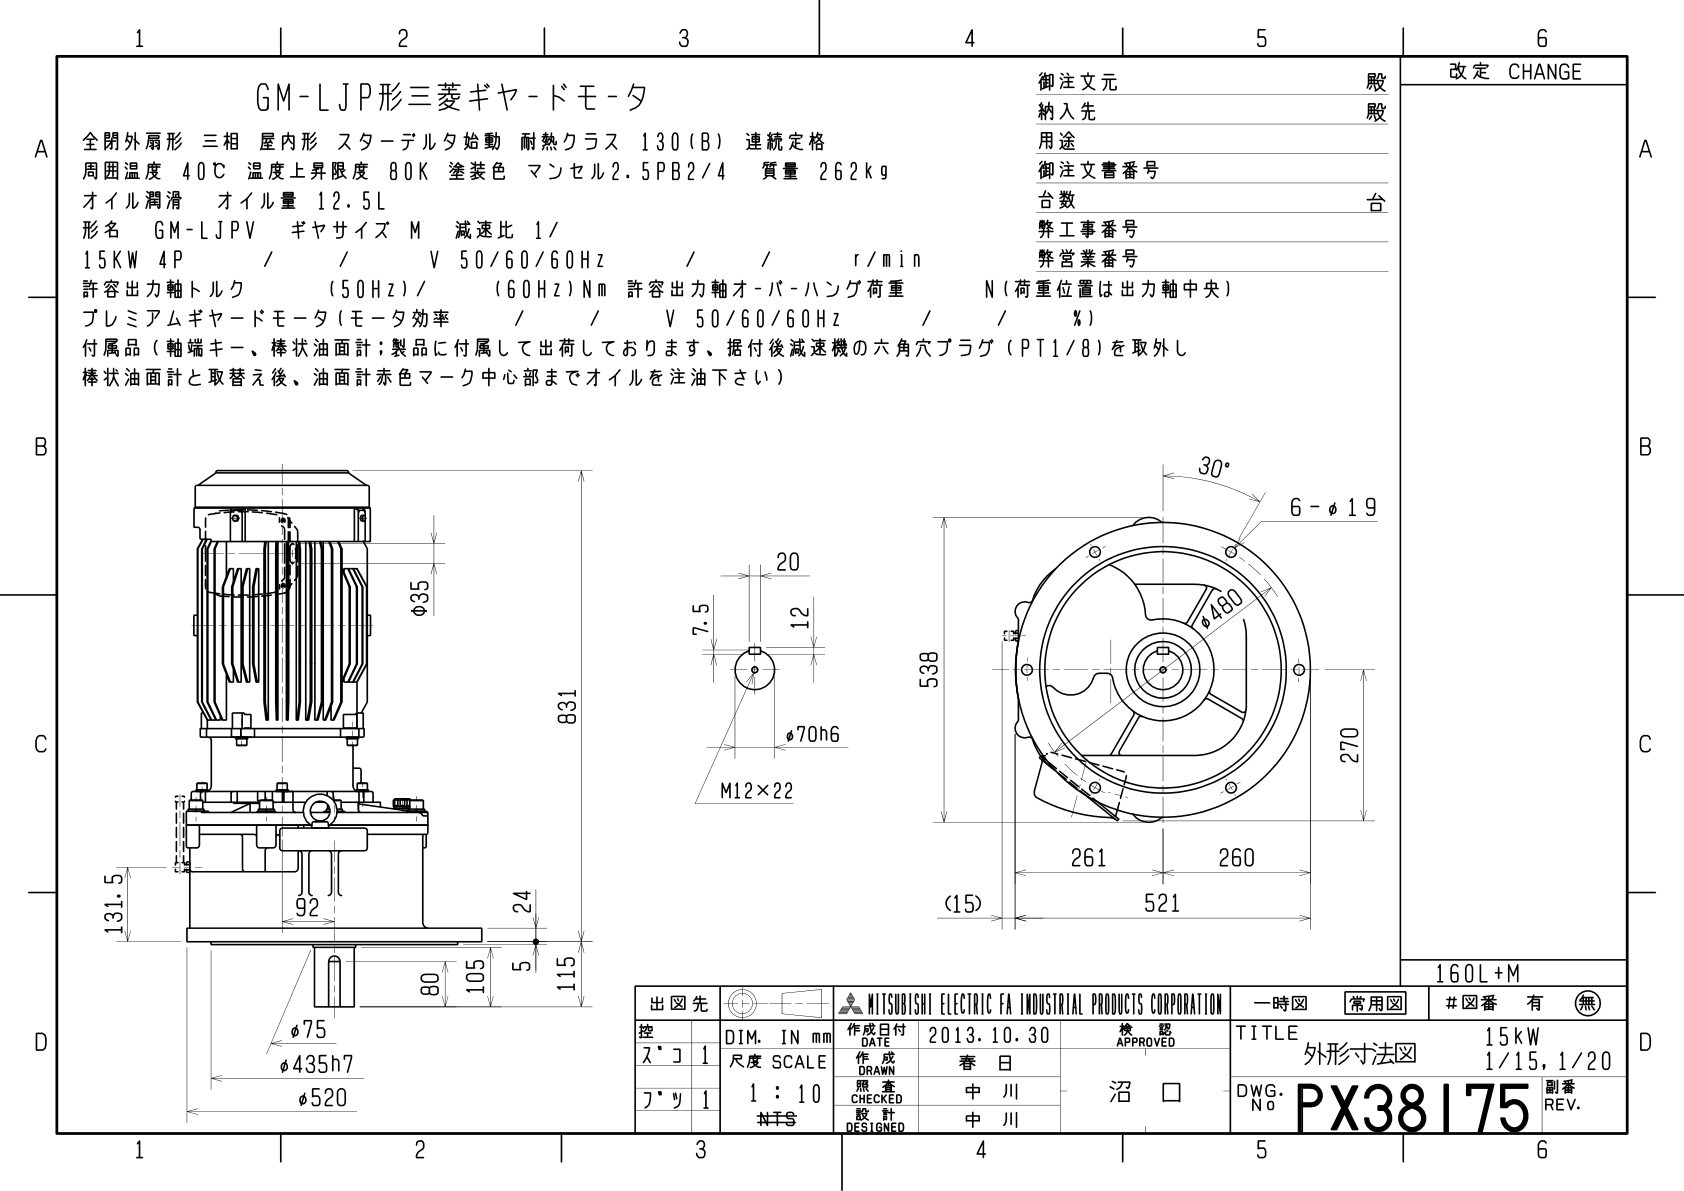GM_LJP_屋内_三相_立: (6, 13, 1684, 1191)
